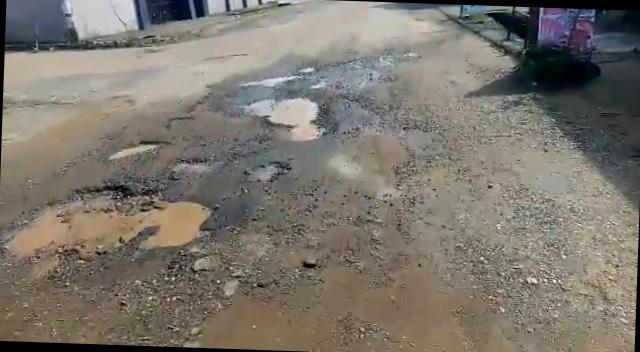pothole: (0, 183, 211, 266), (237, 91, 330, 140), (111, 138, 171, 164), (243, 158, 285, 182)
